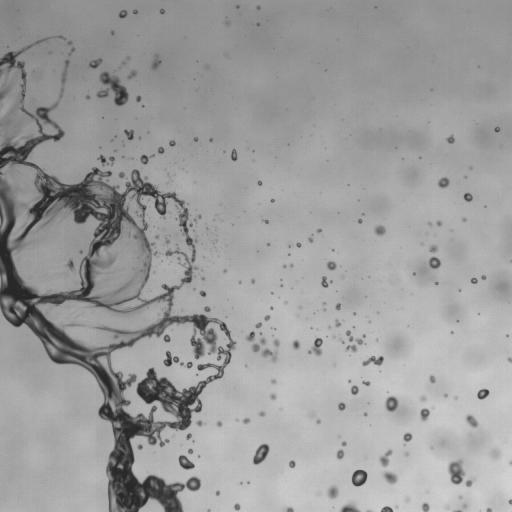droplet: (96, 71, 129, 106), (447, 458, 476, 487), (252, 443, 269, 465), (307, 336, 323, 356), (351, 468, 367, 487), (379, 448, 393, 467), (380, 470, 399, 484), (178, 454, 194, 470), (383, 395, 398, 412), (97, 154, 115, 168), (419, 406, 435, 421), (487, 445, 501, 460), (465, 414, 479, 428), (326, 484, 339, 499), (428, 255, 441, 269), (87, 58, 102, 68), (140, 154, 155, 164), (437, 176, 449, 188), (373, 225, 386, 236), (477, 388, 490, 399), (403, 432, 412, 446), (321, 276, 332, 287), (8, 88, 19, 99), (4, 93, 15, 104), (71, 173, 82, 184), (107, 174, 118, 185), (364, 220, 375, 231), (302, 337, 313, 348), (280, 339, 291, 350), (72, 363, 83, 374), (86, 373, 97, 384), (342, 392, 353, 403), (94, 393, 105, 404), (262, 399, 273, 410), (101, 419, 112, 430), (160, 426, 171, 437), (129, 434, 140, 445), (104, 439, 115, 450), (98, 455, 109, 466), (373, 463, 384, 474), (130, 464, 141, 475), (179, 469, 190, 480), (99, 472, 110, 483), (176, 489, 187, 500), (335, 496, 346, 507), (146, 497, 157, 508), (124, 129, 134, 141), (127, 69, 137, 79), (463, 192, 473, 202), (326, 260, 336, 270), (336, 449, 345, 460), (230, 148, 237, 161), (428, 244, 438, 253), (350, 385, 359, 395), (292, 339, 300, 350), (118, 9, 127, 18), (445, 134, 454, 143), (96, 64, 105, 73), (118, 77, 127, 86), (107, 89, 116, 98), (126, 92, 135, 101), (27, 103, 36, 112), (198, 134, 207, 143), (133, 160, 142, 169), (157, 184, 166, 193), (187, 209, 196, 218), (324, 269, 333, 278), (267, 295, 276, 304), (200, 296, 209, 305), (194, 306, 203, 315), (334, 310, 343, 319), (340, 321, 349, 330), (336, 326, 345, 335), (351, 329, 360, 338), (31, 335, 40, 344), (264, 340, 273, 349), (268, 383, 277, 392), (189, 411, 198, 420), (249, 412, 258, 421), (499, 454, 508, 463), (385, 463, 394, 472), (184, 468, 193, 477), (136, 473, 145, 482), (163, 476, 172, 485), (337, 401, 345, 411), (195, 420, 206, 427), (428, 374, 436, 383), (233, 502, 241, 511), (421, 502, 429, 511), (223, 16, 230, 26), (154, 505, 165, 511), (419, 393, 427, 401), (205, 227, 212, 236), (334, 318, 341, 327), (307, 233, 313, 243), (169, 139, 176, 147), (157, 146, 164, 154), (198, 290, 206, 297), (308, 411, 315, 419), (242, 417, 250, 424), (288, 460, 295, 468), (0, 75, 5, 86), (0, 107, 5, 118), (470, 276, 477, 283), (269, 393, 276, 400), (126, 11, 133, 18), (10, 45, 17, 52), (14, 55, 21, 62), (68, 55, 75, 62), (146, 56, 153, 63), (157, 63, 164, 70), (23, 64, 30, 71), (107, 70, 114, 77), (89, 90, 96, 97), (41, 100, 48, 107), (47, 111, 54, 118), (162, 142, 169, 149), (95, 161, 102, 168), (45, 168, 52, 175), (111, 170, 118, 177), (148, 177, 155, 184), (117, 186, 124, 193), (376, 218, 383, 225), (312, 233, 319, 240), (373, 233, 380, 240), (301, 239, 308, 246), (423, 242, 430, 249), (283, 257, 290, 264), (186, 309, 193, 316), (204, 311, 211, 318), (20, 322, 27, 329), (253, 334, 260, 341), (245, 340, 252, 347), (258, 343, 265, 350), (54, 362, 61, 369), (60, 362, 67, 369), (223, 365, 230, 372), (357, 383, 364, 390), (391, 390, 398, 397), (379, 396, 386, 403), (271, 399, 278, 406), (396, 400, 403, 407), (421, 401, 428, 408), (473, 413, 480, 420), (463, 422, 470, 429), (184, 426, 191, 433), (185, 440, 192, 447), (131, 446, 138, 453), (378, 448, 385, 455), (187, 454, 194, 461), (450, 454, 457, 461), (374, 460, 381, 467), (460, 463, 467, 470), (155, 471, 162, 478), (444, 472, 451, 479), (461, 474, 468, 481), (380, 477, 387, 484), (395, 477, 402, 484), (391, 481, 398, 488), (336, 487, 343, 494), (321, 488, 328, 495), (354, 502, 361, 509), (335, 302, 341, 310), (254, 322, 262, 328), (362, 380, 370, 386), (404, 495, 410, 503), (137, 506, 146, 511), (203, 306, 210, 312), (270, 378, 277, 384), (258, 410, 265, 416), (216, 420, 222, 427), (159, 8, 165, 14), (494, 126, 500, 132), (427, 221, 433, 227), (436, 220, 442, 226), (77, 248, 83, 254), (264, 315, 270, 321), (315, 490, 321, 496), (253, 0, 262, 4), (0, 49, 4, 58), (505, 505, 511, 511), (136, 95, 141, 102), (154, 233, 159, 240), (186, 433, 191, 440), (132, 9, 138, 14), (461, 217, 467, 222), (316, 228, 322, 233), (296, 241, 301, 247), (287, 243, 293, 248), (481, 274, 486, 280), (453, 395, 458, 401), (316, 418, 321, 424), (341, 441, 346, 447), (188, 448, 193, 454), (462, 503, 467, 509), (261, 219, 268, 223), (507, 356, 511, 363), (204, 64, 209, 69), (85, 94, 90, 99), (257, 180, 262, 185), (357, 218, 362, 223), (374, 337, 379, 342), (137, 444, 142, 449), (404, 451, 409, 456), (215, 490, 220, 495), (114, 9, 119, 14), (126, 9, 131, 14), (119, 17, 124, 22), (39, 33, 44, 38), (56, 37, 61, 42), (40, 40, 45, 45), (71, 42, 76, 47), (66, 44, 71, 49), (5, 47, 10, 52), (25, 48, 30, 53), (63, 54, 68, 59), (92, 55, 97, 60), (120, 55, 125, 60), (60, 61, 65, 66), (83, 61, 88, 66), (67, 62, 72, 67), (66, 66, 71, 71), (135, 72, 140, 77), (0, 73, 5, 78), (24, 74, 29, 79), (56, 74, 61, 79), (65, 74, 70, 79), (130, 76, 135, 81), (18, 78, 23, 83), (64, 79, 69, 84), (25, 80, 30, 85), (56, 80, 61, 85), (24, 83, 29, 88), (16, 86, 21, 91), (55, 87, 60, 92), (62, 90, 67, 95), (82, 90, 87, 95), (139, 98, 144, 103), (57, 102, 62, 107), (118, 104, 123, 109), (60, 125, 65, 130), (132, 132, 137, 137), (445, 132, 450, 137), (122, 133, 127, 138), (168, 135, 173, 140), (59, 136, 64, 141), (48, 137, 53, 142), (152, 148, 157, 153), (226, 150, 231, 155), (110, 151, 115, 156), (145, 151, 150, 156), (136, 152, 141, 157), (236, 153, 241, 158), (25, 156, 30, 161), (147, 157, 152, 162), (113, 158, 118, 163), (34, 160, 39, 165), (38, 163, 43, 168), (87, 167, 92, 172), (440, 172, 445, 177), (139, 173, 144, 178), (445, 173, 450, 178), (436, 174, 441, 179), (163, 176, 168, 181), (433, 178, 438, 183), (448, 179, 453, 184), (442, 186, 447, 191), (168, 188, 173, 193), (462, 188, 467, 193), (176, 194, 181, 199), (459, 196, 464, 201), (182, 202, 187, 207), (356, 213, 361, 218), (464, 213, 469, 218), (360, 215, 365, 220), (436, 215, 441, 220), (440, 218, 445, 223), (431, 219, 436, 224), (424, 224, 429, 229), (439, 224, 444, 229), (209, 226, 214, 231), (384, 226, 389, 231), (311, 228, 316, 233), (305, 232, 310, 237), (210, 234, 215, 239), (282, 243, 287, 248), (287, 247, 292, 252), (194, 252, 199, 257), (432, 252, 437, 257), (329, 256, 334, 261), (424, 257, 429, 262), (334, 260, 339, 265), (424, 262, 429, 267), (285, 265, 290, 270), (334, 265, 339, 270), (437, 265, 442, 270), (431, 267, 436, 272), (199, 271, 204, 276), (476, 276, 481, 281), (190, 277, 195, 282), (325, 277, 330, 282), (172, 289, 177, 294), (279, 296, 284, 301), (171, 297, 176, 302), (331, 301, 336, 306), (207, 302, 212, 307), (317, 304, 322, 309), (266, 309, 271, 314), (179, 311, 184, 316), (259, 317, 264, 322), (253, 318, 258, 323), (267, 318, 272, 323), (261, 320, 266, 325), (330, 321, 335, 326), (7, 322, 12, 327), (225, 323, 230, 328), (253, 328, 258, 333), (244, 330, 249, 335), (273, 333, 278, 338), (317, 333, 322, 338), (230, 334, 235, 339), (343, 335, 348, 340), (321, 336, 326, 341), (278, 338, 283, 343), (351, 339, 356, 344), (309, 340, 314, 345), (288, 341, 293, 346), (298, 341, 303, 346), (355, 343, 360, 348), (319, 344, 324, 349), (229, 349, 234, 354), (310, 351, 315, 356), (43, 353, 48, 358), (276, 353, 281, 358), (374, 354, 379, 359), (363, 355, 368, 360), (381, 359, 386, 364), (274, 360, 279, 365), (504, 360, 509, 365), (368, 361, 373, 366), (433, 373, 438, 378), (274, 375, 279, 380), (424, 376, 429, 381), (434, 376, 439, 381), (266, 380, 271, 385), (350, 380, 355, 385), (205, 382, 210, 387), (347, 382, 352, 387), (430, 382, 435, 387), (483, 384, 488, 389), (201, 387, 206, 392), (346, 389, 351, 394), (417, 391, 422, 396), (355, 392, 360, 397), (385, 392, 390, 397), (472, 392, 477, 397), (197, 393, 202, 398), (275, 393, 280, 398), (349, 393, 354, 398), (425, 393, 430, 398), (447, 393, 452, 398), (485, 394, 490, 399), (265, 395, 270, 400), (336, 398, 341, 403), (344, 402, 349, 407), (200, 405, 205, 410), (395, 405, 400, 410), (257, 406, 262, 411), (335, 408, 340, 413), (342, 408, 347, 413), (385, 409, 390, 414), (264, 410, 269, 415), (415, 410, 420, 415), (315, 413, 320, 418), (427, 413, 432, 418), (240, 414, 245, 419), (214, 416, 219, 421), (311, 417, 316, 422), (211, 420, 216, 425), (238, 420, 243, 425), (245, 422, 250, 427), (318, 422, 323, 427), (164, 424, 169, 429), (200, 424, 205, 429), (214, 425, 219, 430), (403, 428, 408, 433), (410, 431, 415, 436), (398, 434, 403, 439), (339, 436, 344, 441), (399, 438, 404, 443), (409, 438, 414, 443), (260, 439, 265, 444), (405, 440, 410, 445), (253, 444, 258, 449), (340, 445, 345, 450), (485, 447, 490, 452), (250, 450, 255, 455), (332, 450, 337, 455), (265, 453, 270, 458), (387, 454, 392, 459), (341, 455, 346, 460), (286, 456, 291, 461), (248, 457, 253, 462), (174, 460, 179, 465), (259, 460, 264, 465), (284, 460, 289, 465), (504, 462, 509, 467), (353, 465, 358, 470), (360, 465, 365, 470), (179, 466, 184, 471), (348, 470, 353, 475), (365, 476, 370, 481), (199, 480, 204, 485), (347, 480, 352, 485), (471, 481, 476, 486), (361, 482, 366, 487), (450, 482, 455, 487), (198, 485, 203, 490), (183, 486, 188, 491), (102, 488, 107, 493), (193, 489, 198, 494), (103, 496, 108, 501), (459, 498, 464, 503), (230, 500, 235, 505), (427, 501, 432, 506), (286, 502, 291, 507), (380, 502, 385, 507), (389, 503, 394, 508), (487, 503, 492, 508), (367, 504, 372, 509), (456, 504, 461, 509), (292, 506, 297, 511), (251, 278, 255, 284), (486, 507, 492, 511), (233, 0, 240, 3), (0, 82, 3, 89), (256, 5, 260, 10), (110, 30, 114, 35), (193, 137, 198, 141), (209, 137, 213, 142), (270, 198, 275, 202), (222, 269, 227, 273), (283, 300, 287, 305), (297, 305, 302, 309), (181, 308, 186, 312), (458, 495, 463, 499), (394, 504, 398, 509), (235, 4, 239, 8), (256, 22, 260, 26), (266, 242, 270, 246), (340, 275, 344, 279), (434, 281, 438, 285), (327, 325, 331, 329), (332, 334, 336, 338), (443, 393, 447, 397), (278, 406, 282, 410), (363, 412, 367, 416), (246, 480, 250, 484), (235, 418, 240, 421), (508, 334, 511, 339), (508, 352, 511, 357), (508, 465, 511, 470), (103, 508, 108, 511), (237, 508, 242, 511), (418, 508, 423, 511), (427, 508, 432, 511), (461, 508, 466, 511), (481, 508, 486, 511), (491, 508, 496, 511), (138, 136, 141, 140), (113, 149, 117, 152), (121, 155, 125, 158), (418, 156, 422, 159), (468, 166, 472, 169), (463, 175, 467, 178), (420, 242, 423, 246), (330, 248, 334, 251), (238, 280, 241, 284), (193, 287, 196, 291), (458, 288, 461, 292), (270, 306, 273, 310), (352, 325, 355, 329), (450, 330, 453, 334), (505, 334, 509, 337), (244, 364, 248, 367), (348, 379, 351, 383), (337, 435, 341, 438), (430, 445, 433, 449), (197, 454, 200, 458), (239, 481, 243, 484), (0, 310, 2, 315), (430, 88, 433, 91), (114, 135, 117, 138), (110, 139, 113, 142), (122, 144, 125, 147), (223, 150, 226, 153), (361, 212, 364, 215), (212, 218, 215, 221), (412, 272, 415, 275), (280, 284, 283, 287), (270, 291, 273, 294), (376, 311, 379, 314), (353, 312, 356, 315), (368, 320, 371, 323), (310, 326, 313, 329), (271, 334, 274, 337), (255, 2, 258, 5), (259, 4, 262, 7), (232, 5, 235, 8), (132, 6, 135, 9), (162, 6, 165, 9), (136, 7, 139, 10), (237, 7, 240, 10), (254, 8, 257, 11), (156, 9, 159, 12), (163, 11, 166, 14), (132, 13, 135, 16), (160, 13, 163, 16), (226, 17, 229, 20), (255, 19, 258, 22), (259, 22, 262, 25), (253, 23, 256, 26), (113, 30, 116, 33), (107, 31, 110, 34), (56, 32, 59, 35), (47, 33, 50, 36), (61, 33, 64, 36), (111, 34, 114, 37), (35, 37, 38, 40), (47, 38, 50, 41), (65, 38, 68, 41), (26, 42, 29, 45), (35, 43, 38, 46), (71, 51, 74, 54), (89, 66, 92, 69), (24, 92, 27, 95), (137, 92, 140, 95), (82, 94, 85, 97), (61, 95, 64, 98), (23, 96, 26, 99), (87, 98, 90, 101), (141, 107, 144, 110), (103, 115, 106, 118), (100, 118, 103, 121), (491, 128, 494, 131), (494, 131, 497, 134), (193, 133, 196, 136), (110, 135, 113, 138), (140, 135, 143, 138), (452, 135, 455, 138), (206, 136, 209, 139), (113, 137, 116, 140), (197, 138, 200, 141), (212, 138, 215, 141), (174, 139, 177, 142), (194, 141, 197, 144), (208, 141, 211, 144), (448, 142, 451, 145), (171, 145, 174, 148), (235, 148, 238, 151), (248, 148, 251, 151), (219, 149, 222, 152), (254, 149, 257, 152), (120, 152, 123, 155), (419, 153, 422, 156), (114, 156, 117, 159), (228, 156, 231, 159), (122, 157, 125, 160), (419, 158, 422, 161), (230, 159, 233, 162), (166, 168, 169, 171), (163, 172, 166, 175), (168, 172, 171, 175), (464, 172, 467, 175), (171, 176, 174, 179), (254, 180, 257, 183), (261, 180, 264, 183), (346, 180, 349, 183), (255, 183, 258, 186), (461, 192, 464, 195), (470, 192, 473, 195), (271, 195, 274, 198), (267, 197, 270, 200), (359, 198, 362, 201), (268, 201, 271, 204), (272, 201, 275, 204), (481, 202, 484, 205), (486, 205, 489, 208), (483, 207, 486, 210), (363, 210, 366, 213), (200, 214, 203, 217), (214, 215, 217, 218), (264, 216, 267, 219), (458, 217, 461, 220), (354, 218, 357, 221), (268, 220, 271, 223), (361, 220, 364, 223), (464, 220, 467, 223), (261, 221, 264, 224), (228, 223, 231, 226), (264, 223, 267, 226), (207, 225, 210, 228), (317, 225, 320, 228), (318, 231, 321, 234), (265, 239, 268, 242), (269, 242, 272, 245), (209, 243, 212, 246), (214, 243, 217, 246), (263, 243, 266, 246), (300, 243, 303, 246), (267, 245, 270, 248), (331, 245, 334, 248), (295, 246, 298, 249), (217, 247, 220, 250), (328, 248, 331, 251), (334, 248, 337, 251), (215, 251, 218, 254), (284, 252, 287, 255), (208, 255, 211, 258), (287, 255, 290, 258), (292, 262, 295, 265), (223, 265, 226, 268), (292, 265, 295, 268), (220, 267, 223, 270), (412, 268, 415, 271), (225, 271, 228, 274), (409, 271, 412, 274), (415, 272, 418, 275), (279, 275, 282, 278), (412, 275, 415, 278), (469, 275, 472, 278), (204, 276, 207, 279), (485, 276, 488, 279), (237, 277, 240, 280), (276, 277, 279, 280), (319, 278, 322, 281), (434, 278, 437, 281), (240, 279, 243, 282), (248, 280, 251, 283), (254, 280, 257, 283), (280, 280, 283, 283), (235, 281, 238, 284), (238, 283, 241, 286), (282, 283, 285, 286), (472, 283, 475, 286), (433, 284, 436, 287), (458, 285, 461, 288), (279, 286, 282, 289), (322, 286, 325, 289), (270, 288, 273, 291), (455, 289, 458, 292), (460, 289, 463, 292), (204, 290, 207, 293), (198, 294, 201, 297), (270, 294, 273, 297), (322, 298, 325, 301), (287, 300, 290, 303), (267, 304, 270, 307), (323, 304, 326, 307), (209, 306, 212, 309), (272, 307, 275, 310), (313, 308, 316, 311), (352, 308, 355, 311), (476, 309, 479, 312), (315, 311, 318, 314), (349, 311, 352, 314), (479, 312, 482, 315), (354, 314, 357, 317), (476, 314, 479, 317), (368, 316, 371, 319), (456, 316, 459, 319), (365, 317, 368, 320), (338, 319, 341, 322), (455, 322, 458, 325), (273, 324, 276, 327), (354, 324, 357, 327), (270, 328, 273, 331), (452, 328, 455, 331), (447, 329, 450, 332), (349, 332, 352, 335), (365, 333, 368, 336), (450, 333, 453, 336), (335, 336, 338, 339), (372, 336, 375, 339), (504, 336, 507, 339), (312, 337, 315, 340), (378, 338, 381, 341), (338, 340, 341, 343), (229, 358, 232, 361), (247, 363, 250, 366), (359, 363, 362, 366), (241, 364, 244, 367), (347, 376, 350, 379), (364, 378, 367, 381), (344, 379, 347, 382), (369, 382, 372, 385), (442, 390, 445, 393), (440, 393, 443, 396), (200, 400, 203, 403), (335, 405, 338, 408), (363, 408, 366, 411), (366, 411, 369, 414), (360, 412, 363, 415), (259, 415, 262, 418), (362, 415, 365, 418), (320, 420, 323, 423), (221, 422, 224, 425), (188, 437, 191, 440), (345, 441, 348, 444), (164, 442, 167, 445), (191, 447, 194, 450), (406, 455, 409, 458), (294, 461, 297, 464), (290, 467, 293, 470), (239, 478, 242, 481), (236, 480, 239, 483), (249, 480, 252, 483), (243, 481, 246, 484), (247, 483, 250, 486), (238, 484, 241, 487), (212, 491, 215, 494), (218, 493, 221, 496), (215, 495, 218, 498), (506, 497, 509, 500), (505, 500, 508, 503), (105, 504, 108, 507), (207, 505, 210, 508), (204, 507, 207, 510), (391, 507, 394, 510), (374, 6, 377, 8), (48, 51, 51, 53), (324, 69, 327, 71), (141, 105, 144, 107), (147, 131, 149, 134), (252, 149, 254, 152), (401, 157, 404, 159), (347, 184, 350, 186), (483, 205, 486, 207), (288, 252, 290, 255), (202, 255, 204, 258), (217, 255, 220, 257), (280, 278, 282, 281), (342, 319, 344, 322), (456, 320, 459, 322), (195, 373, 198, 375), (192, 439, 194, 442), (207, 509, 210, 511), (509, 496, 511, 499), (209, 509, 212, 511), (234, 509, 237, 511), (445, 509, 448, 511), (6, 45, 8, 47), (196, 60, 198, 62), (477, 65, 479, 67), (113, 69, 115, 71), (101, 116, 103, 118), (99, 146, 101, 148), (357, 199, 359, 201), (257, 203, 259, 205), (291, 287, 293, 289), (313, 312, 315, 314), (477, 313, 479, 315), (379, 370, 381, 372), (386, 391, 388, 393), (367, 402, 369, 404), (180, 444, 182, 446), (332, 506, 334, 508), (122, 140, 123, 142), (337, 212, 339, 213), (153, 225, 154, 227), (257, 250, 258, 252), (336, 290, 337, 292), (365, 296, 367, 297), (225, 316, 227, 317), (369, 424, 371, 425), (361, 278, 362, 279), (278, 297, 279, 298)
ligament: (163, 350, 193, 369), (338, 500, 361, 511), (361, 355, 383, 366), (150, 53, 161, 70), (118, 56, 130, 69), (444, 504, 463, 511), (67, 40, 75, 55), (165, 172, 173, 186), (162, 234, 170, 247), (154, 259, 163, 267), (380, 506, 393, 511), (198, 272, 205, 281), (281, 263, 293, 268), (282, 506, 294, 511), (321, 301, 326, 311), (338, 338, 344, 345), (270, 326, 276, 330), (508, 459, 511, 466), (365, 509, 375, 511), (213, 213, 219, 216), (508, 499, 511, 505), (127, 157, 133, 159), (219, 218, 223, 221), (316, 328, 319, 330), (173, 173, 175, 175), (510, 259, 511, 263), (326, 334, 327, 337)
